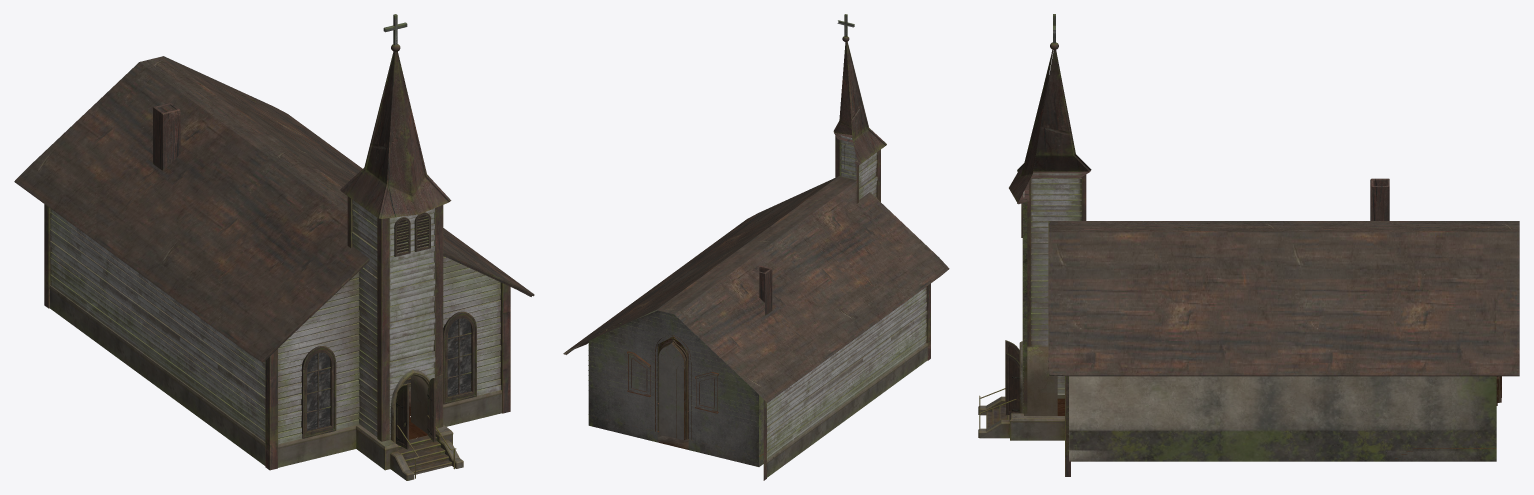
File: church.glb
3 views of the same model, side by side, from view 1: azimuth 30°, elevation 25°; view 2: azimuth 150°, elevation 25°; view 3: azimuth 270°, elevation 25° (orthographic). The views are drawn at different scales.
Visible parts, largest first — view 1: ROOF_WINDOW, WOODPANJA, STONE_DOOR, ELSE, Chair_GLASS_BG; view 2: ROOF_WINDOW, Chair_GLASS_BG, WOODPANJA, STONE_DOOR, ELSE, MAIN; view 3: ROOF_WINDOW, Chair_GLASS_BG, WOODPANJA, ELSE, STONE_DOOR.
Part boxes in pixels (x1=…): ROOF_WINDOW: x1=14, y1=56, x2=534, y2=449; WOODPANJA: x1=44, y1=196, x2=510, y2=470; STONE_DOOR: x1=49, y1=285, x2=501, y2=480; ELSE: x1=153, y1=14, x2=451, y2=218; Chair_GLASS_BG: x1=278, y1=274, x2=498, y2=439; ROOF_WINDOW: x1=563, y1=143, x2=949, y2=429; Chair_GLASS_BG: x1=588, y1=310, x2=763, y2=466; WOODPANJA: x1=763, y1=135, x2=930, y2=480; STONE_DOOR: x1=655, y1=335, x2=927, y2=477; ELSE: x1=657, y1=14, x2=886, y2=456; MAIN: x1=627, y1=351, x2=718, y2=413; ROOF_WINDOW: x1=1005, y1=203, x2=1519, y2=416; Chair_GLASS_BG: x1=1057, y1=376, x2=1496, y2=461; WOODPANJA: x1=1022, y1=173, x2=1086, y2=476; ELSE: x1=1009, y1=14, x2=1496, y2=458; STONE_DOOR: x1=978, y1=341, x2=1501, y2=440.
Bounding box in the file's own units: 5.64 × 8.45 × 10.1.
6 materials, 6 textured.
